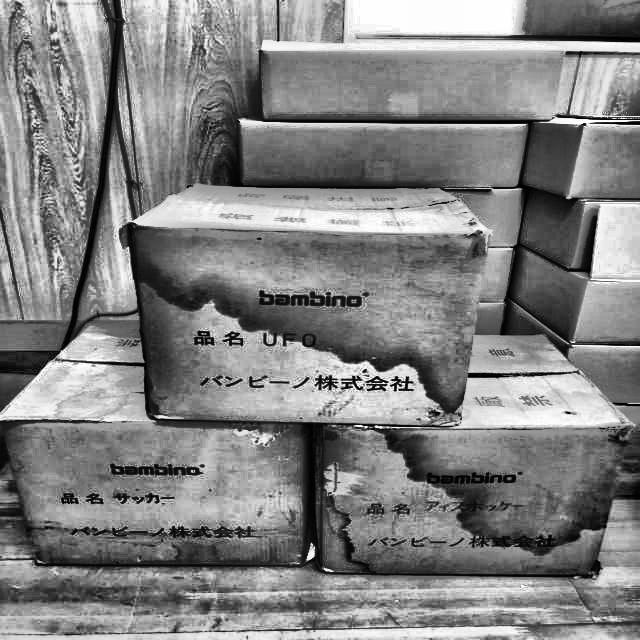box: (119, 175, 509, 435)
wet: (128, 223, 485, 384), (387, 428, 618, 553)
